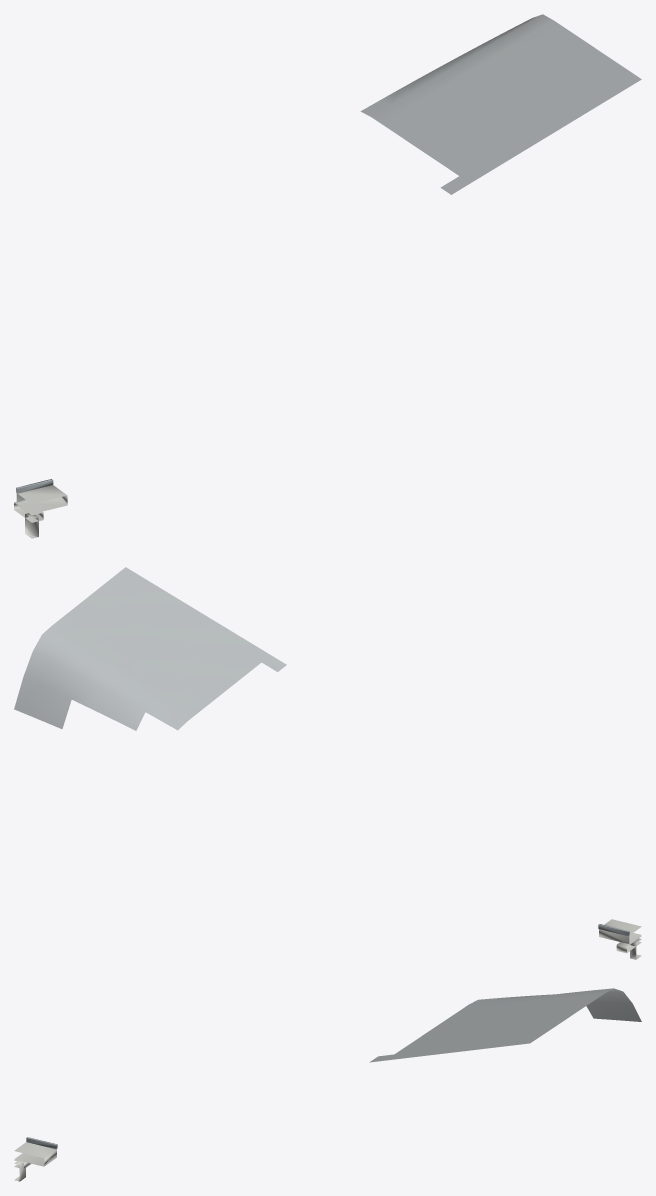
File: alpine-10-11.glb
The picture shows the model from 3 angles, top to bottom: view 1: azimuth 30°, elevation 25°; view 2: azimuth 150°, elevation 25°; view 3: azimuth 330°, elevation 25°; orthographic projection. The views are drawn at different scales.
Visible parts, largest first — view 1: alpine-10-11; view 2: alpine-10-11; view 3: alpine-10-11.
Boxes of the visible parts, box(x1,y1,x2,y2) form: alpine-10-11: box(14, 14, 641, 538); alpine-10-11: box(14, 567, 641, 959); alpine-10-11: box(14, 988, 641, 1181).
Size of the model in its own units: 256 by 124 by 96.
Materials: 3 (3 with a texture image).
